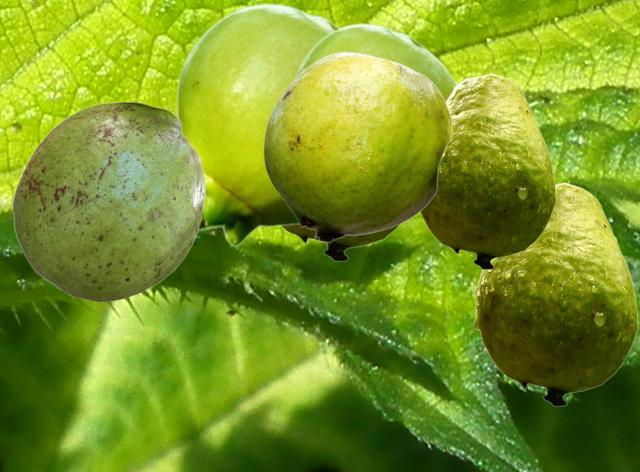guava: (174, 3, 338, 246), (11, 101, 205, 301), (473, 182, 637, 406), (263, 51, 452, 242), (420, 73, 555, 269), (292, 23, 457, 98), (281, 225, 400, 261)
